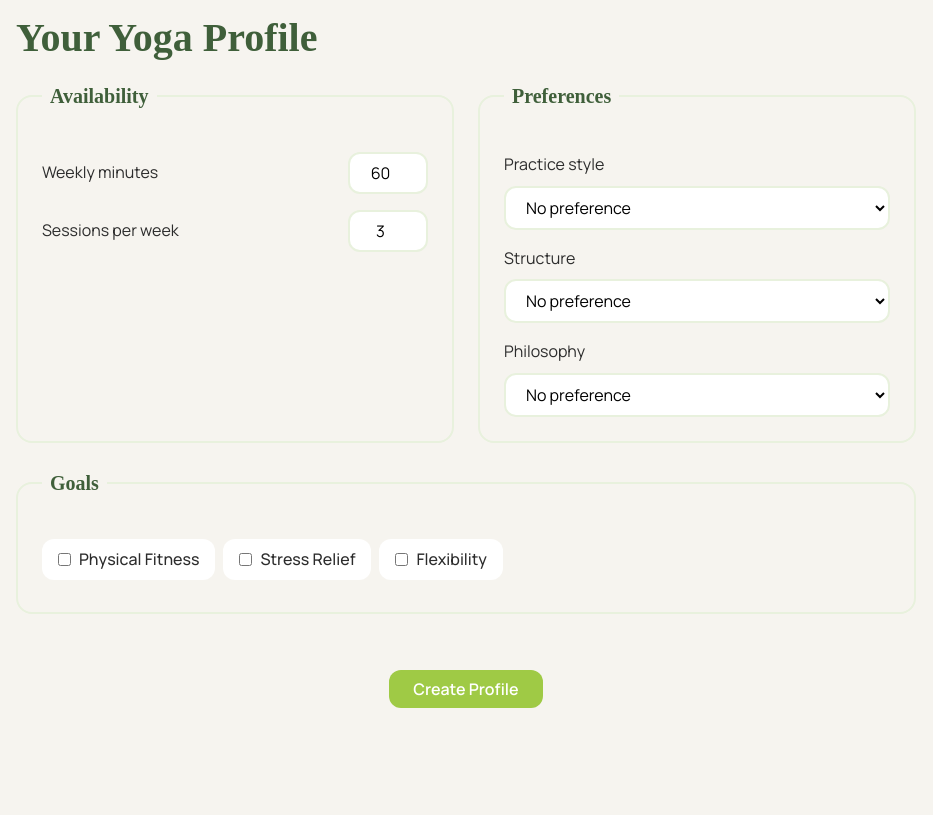
Test case: Profile Page › new profile (no existing profile) › shows error message on failed create
Expected: the number field labelled "Weekly minutes" is shown, [348,152,428,194]
Click the button "Create Profile" at (466, 689), box [389,670,543,708]
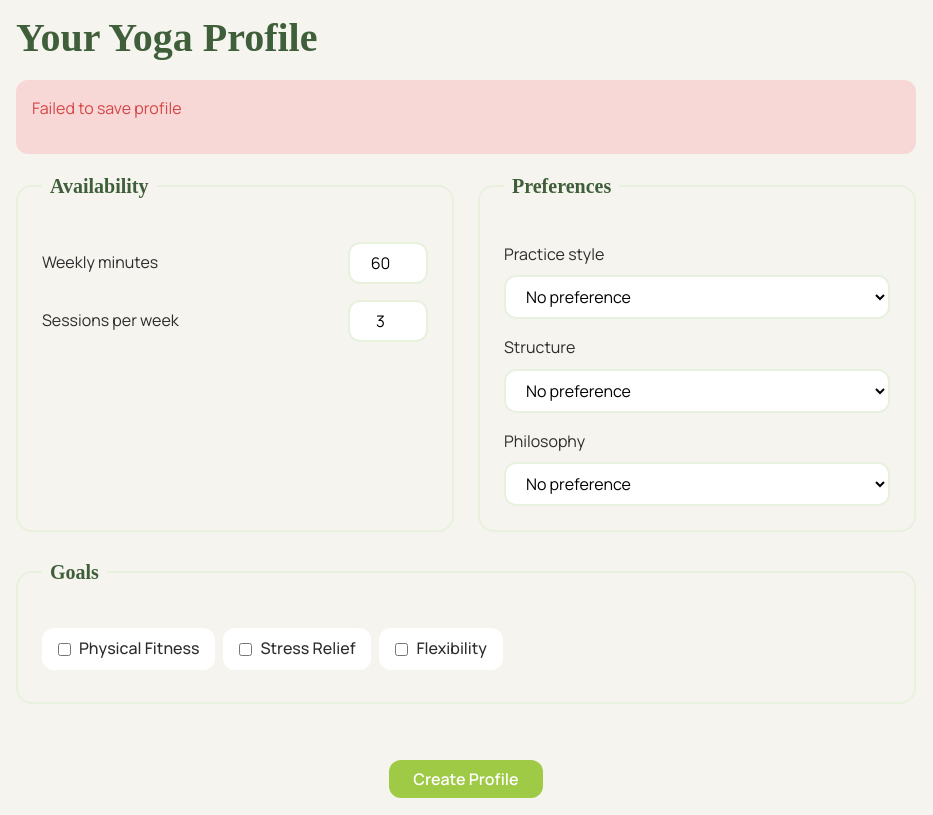
Expected: the text "Failed to save profile" is shown, [32,97,182,119]
